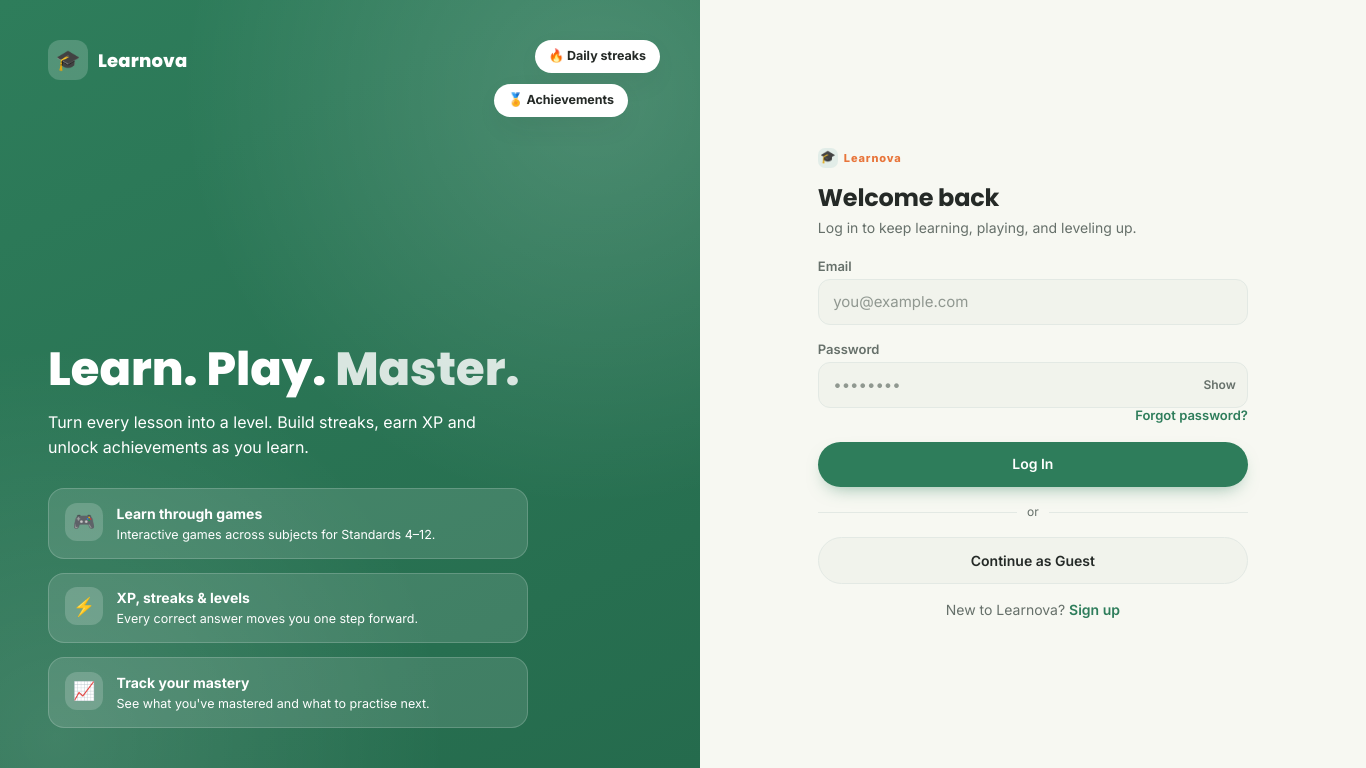
Login › shows the API's error message and does not navigate on failure
This screenshot has width=1366, height=768.
In the field labelled "Email": (1033, 302) [818,279,1248,325], type "a@b.com"
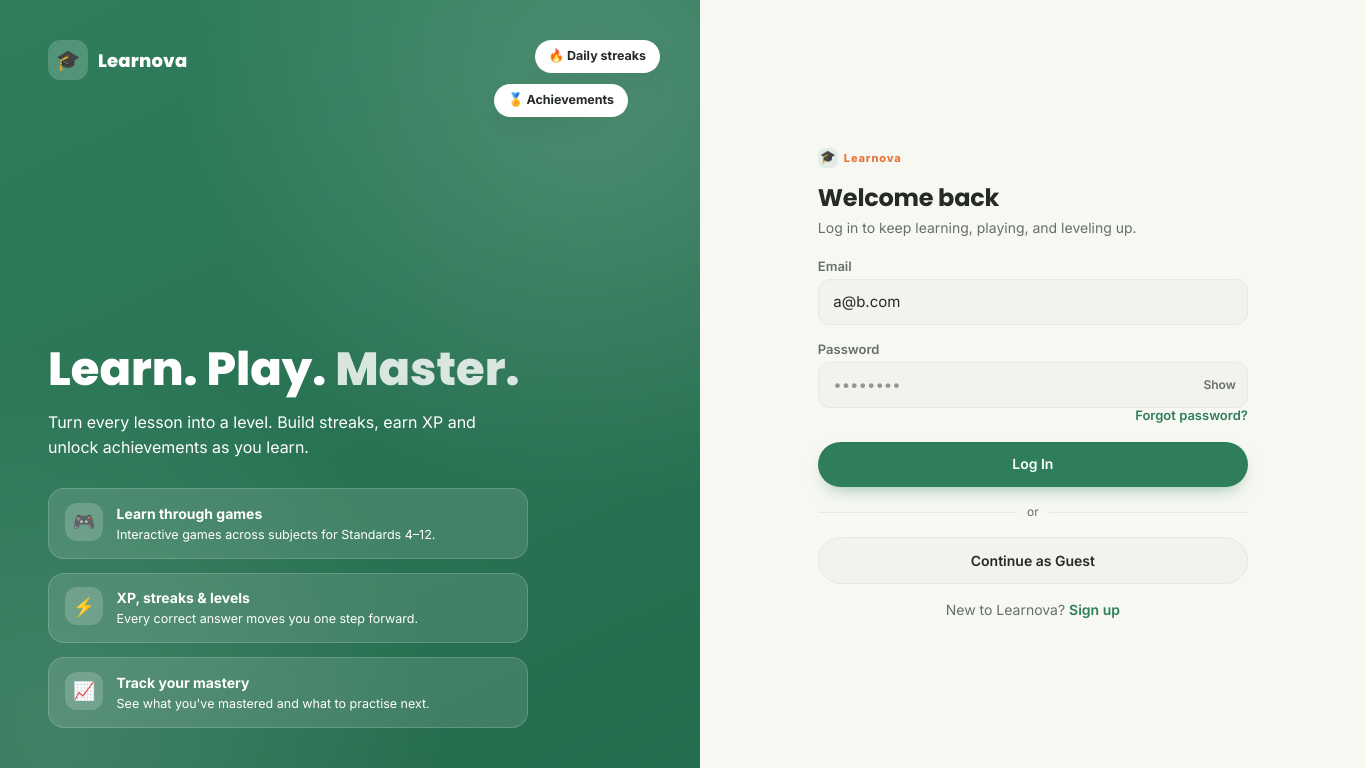
In the password field labelled "Password": (1033, 385) [818,362,1248,408], type "secret"
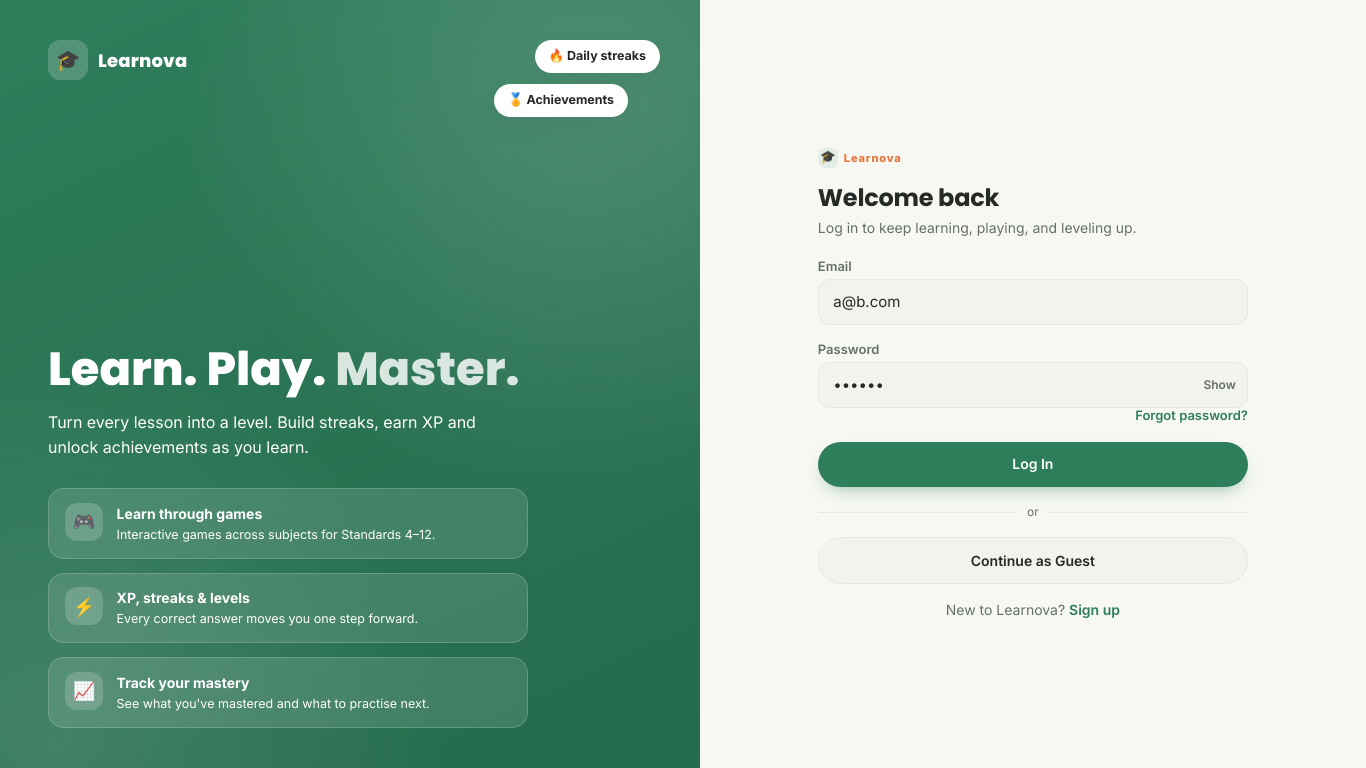
Click the button "Log In": (1033, 464) [818,442,1248,487]
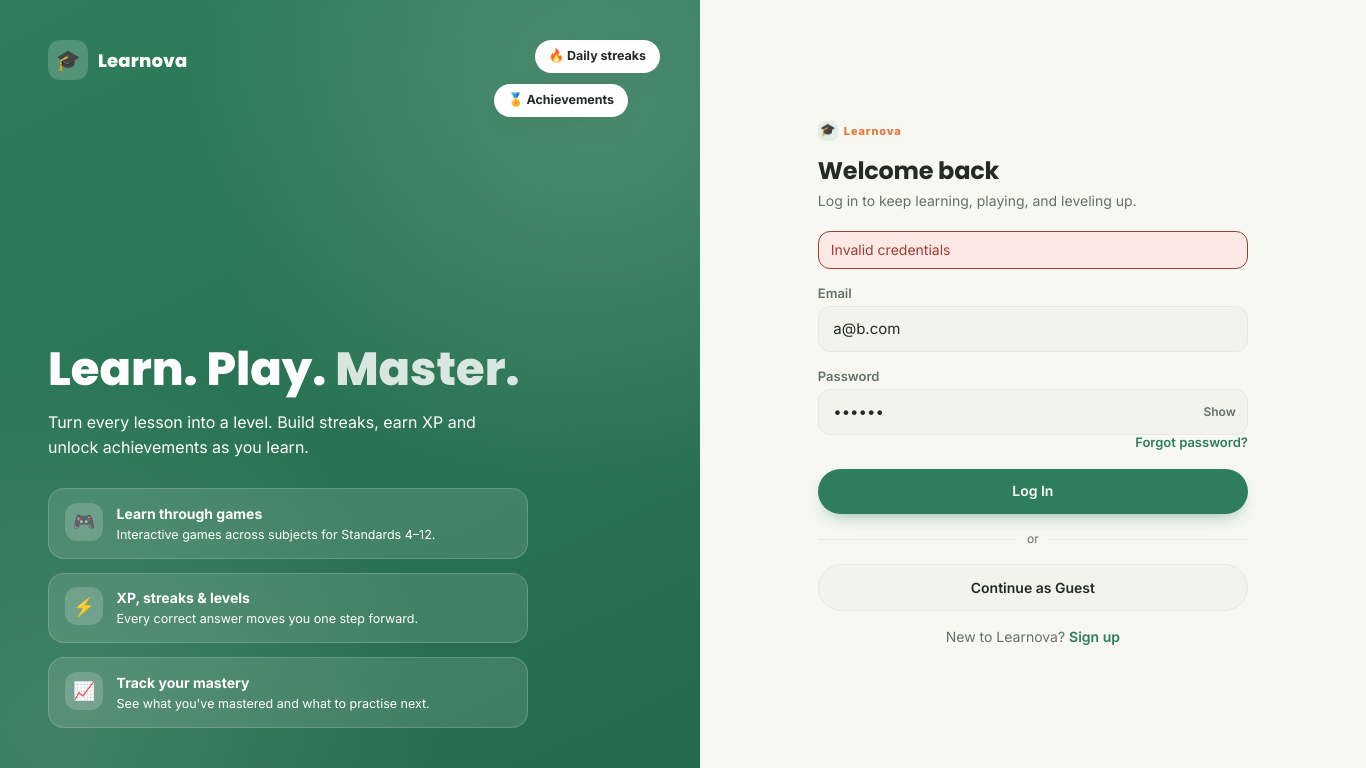
Check: the text "Invalid credentials" is shown, box [818,231,1248,269]
